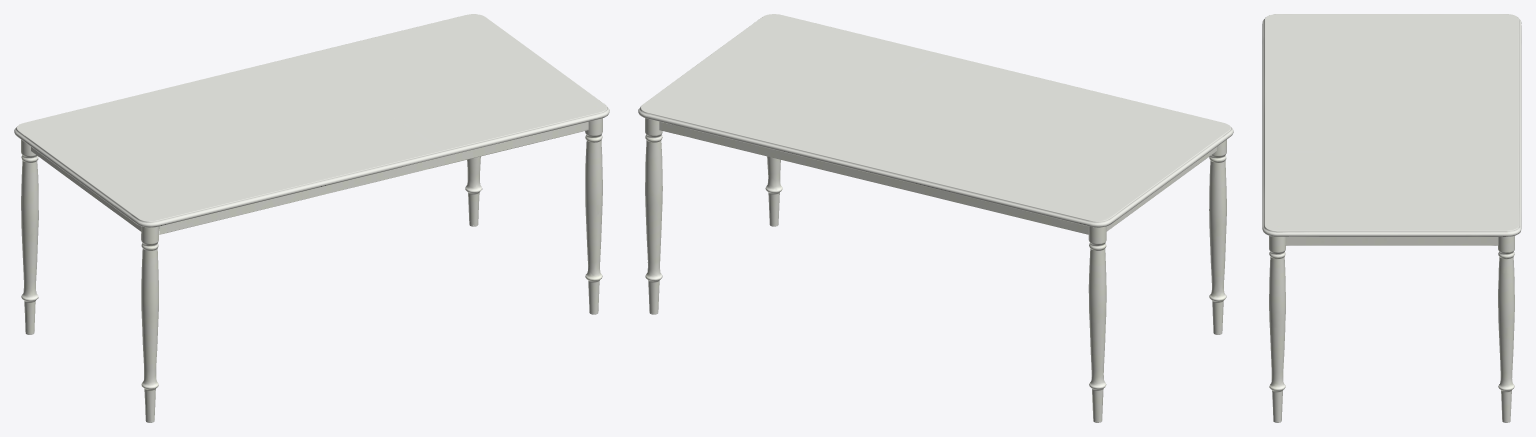
The model's file is DANDERYD_00568728.glb.
The picture shows the model from 3 angles, left to right: view 1: azimuth 30°, elevation 25°; view 2: azimuth 150°, elevation 25°; view 3: azimuth 270°, elevation 25°; orthographic projection. The views are drawn at different scales.
Parts seen in each view (by area): view 1: model; view 2: model; view 3: model.
Part boxes in pixels (x1,y1,x2,y2): model: [14, 14, 609, 422]; model: [638, 14, 1233, 422]; model: [1262, 14, 1521, 422].
Size of the model in its own units: 1.8 by 0.7501 by 0.9003.
Materials: 1 (1 with a texture image).
